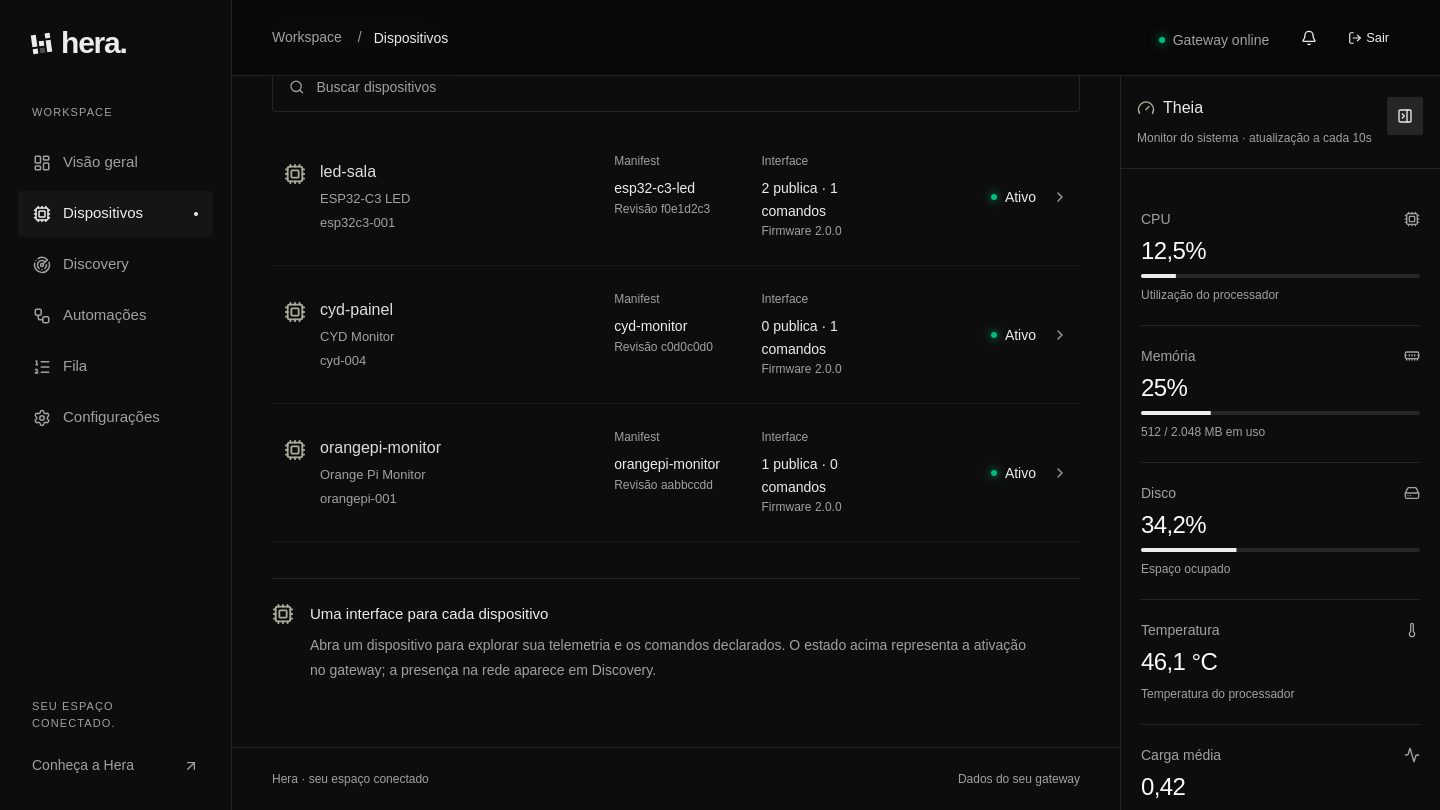
Test case: opens a device from a non-link cell and reuses telemetry in details
(page scrolled)
Click the text "orangepi-001": (358, 498) [320, 491, 397, 506]
(page scrolled)
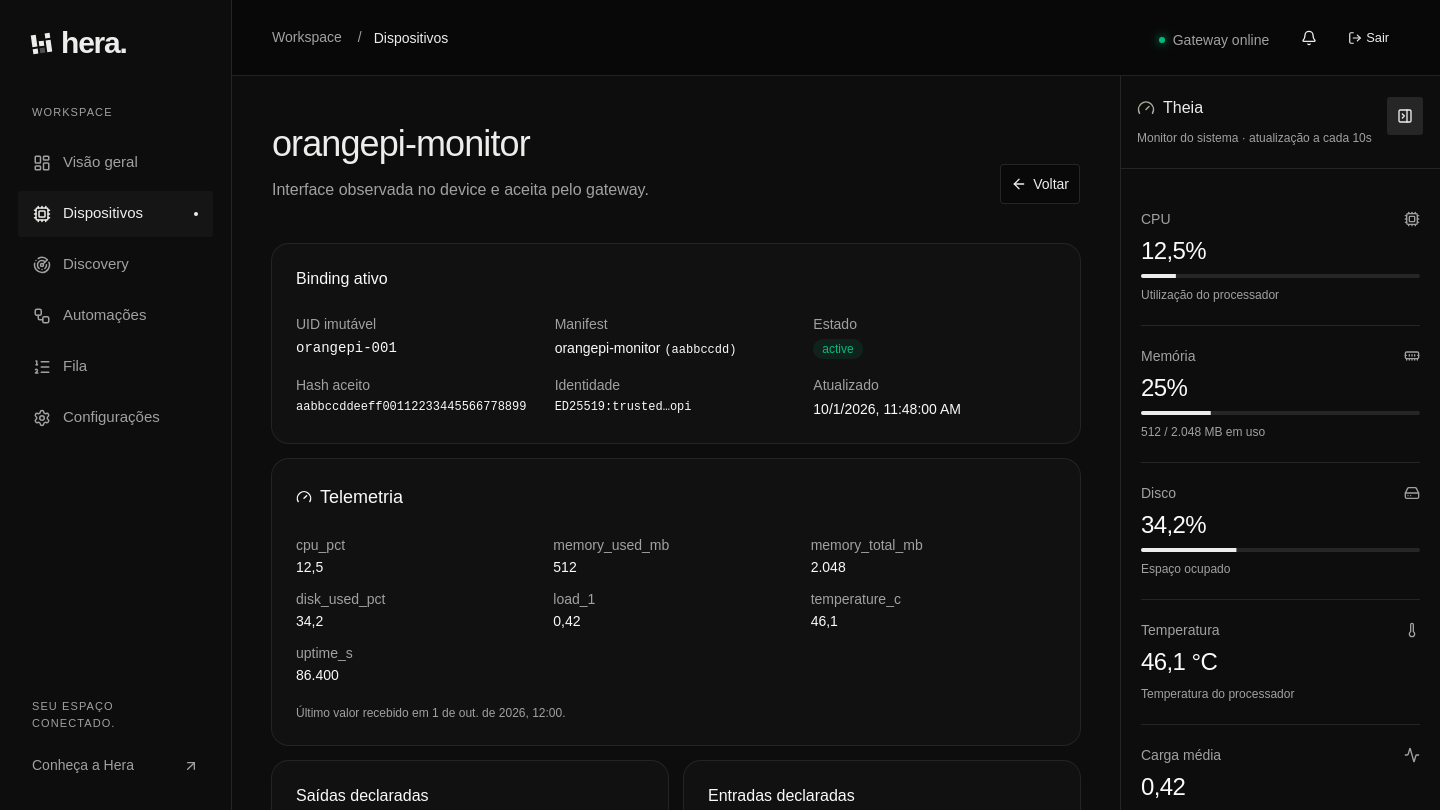
Expected: the text "12,5" is shown, [296, 559, 323, 575]
